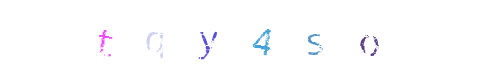4: (240, 0, 320, 80)
O: (248, 0, 328, 80)
Q: (166, 0, 246, 80)
S: (244, 0, 324, 80)
T: (64, 0, 144, 80)
Y: (210, 0, 290, 80)
